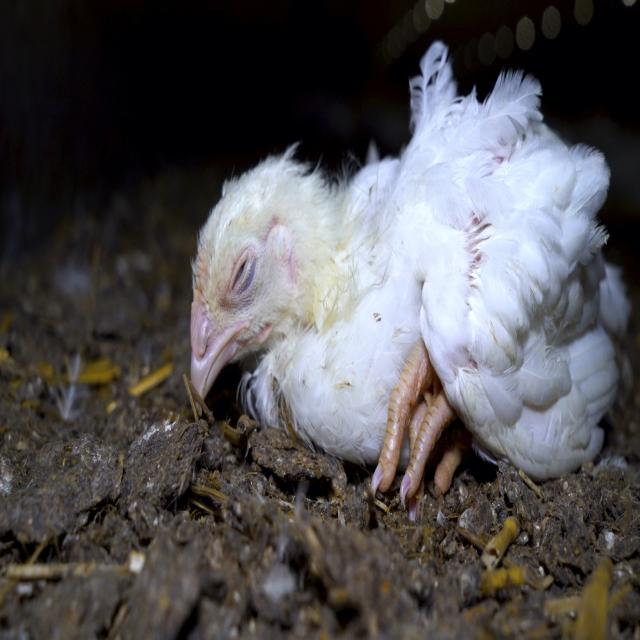Unhealthy: (170, 38, 617, 511)
